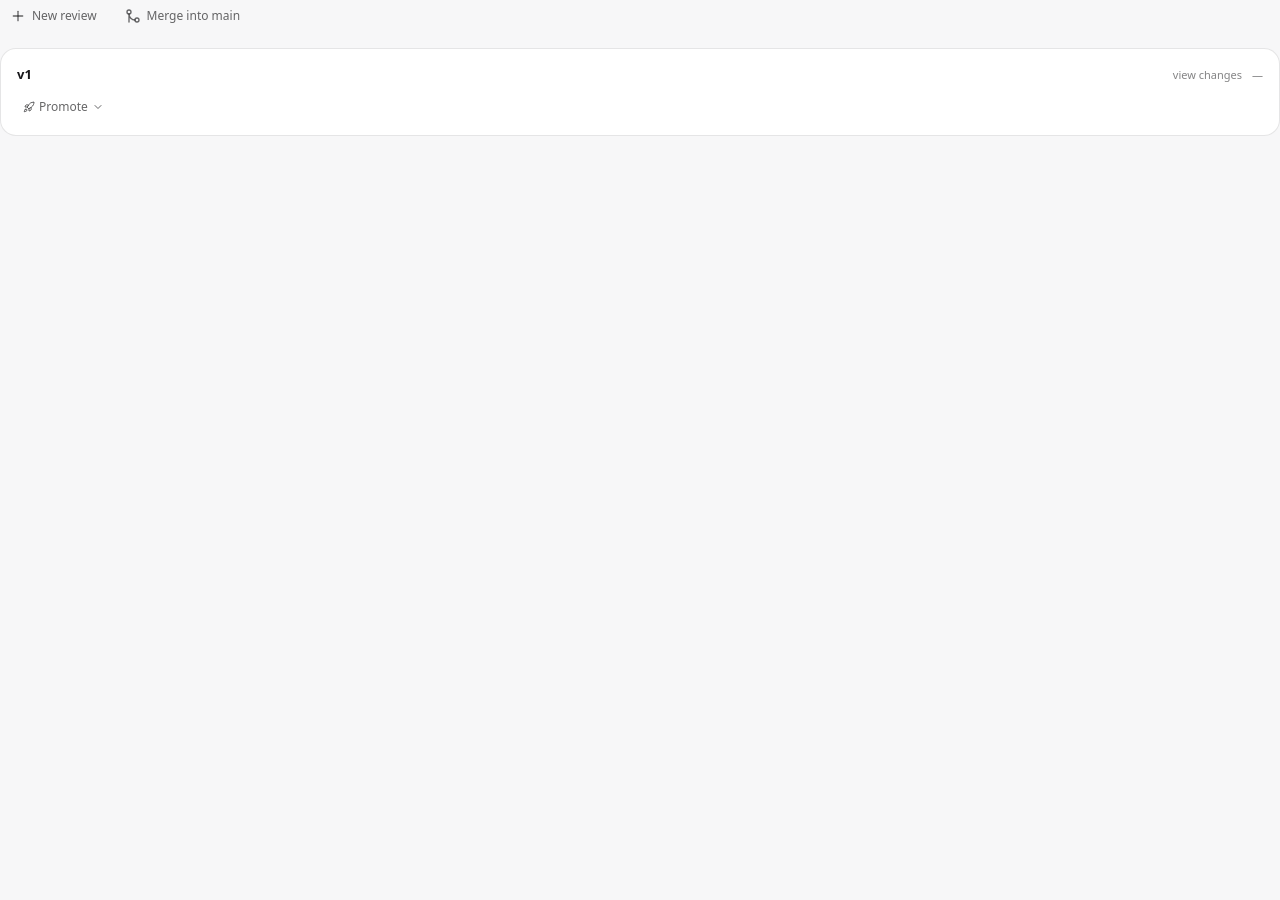
Test: ActivityFeed protected merges › offers no update when the source is protected too, since it takes changes only through a review
Click the button "Merge into main": (182, 16) left=115, top=0, right=250, bottom=32
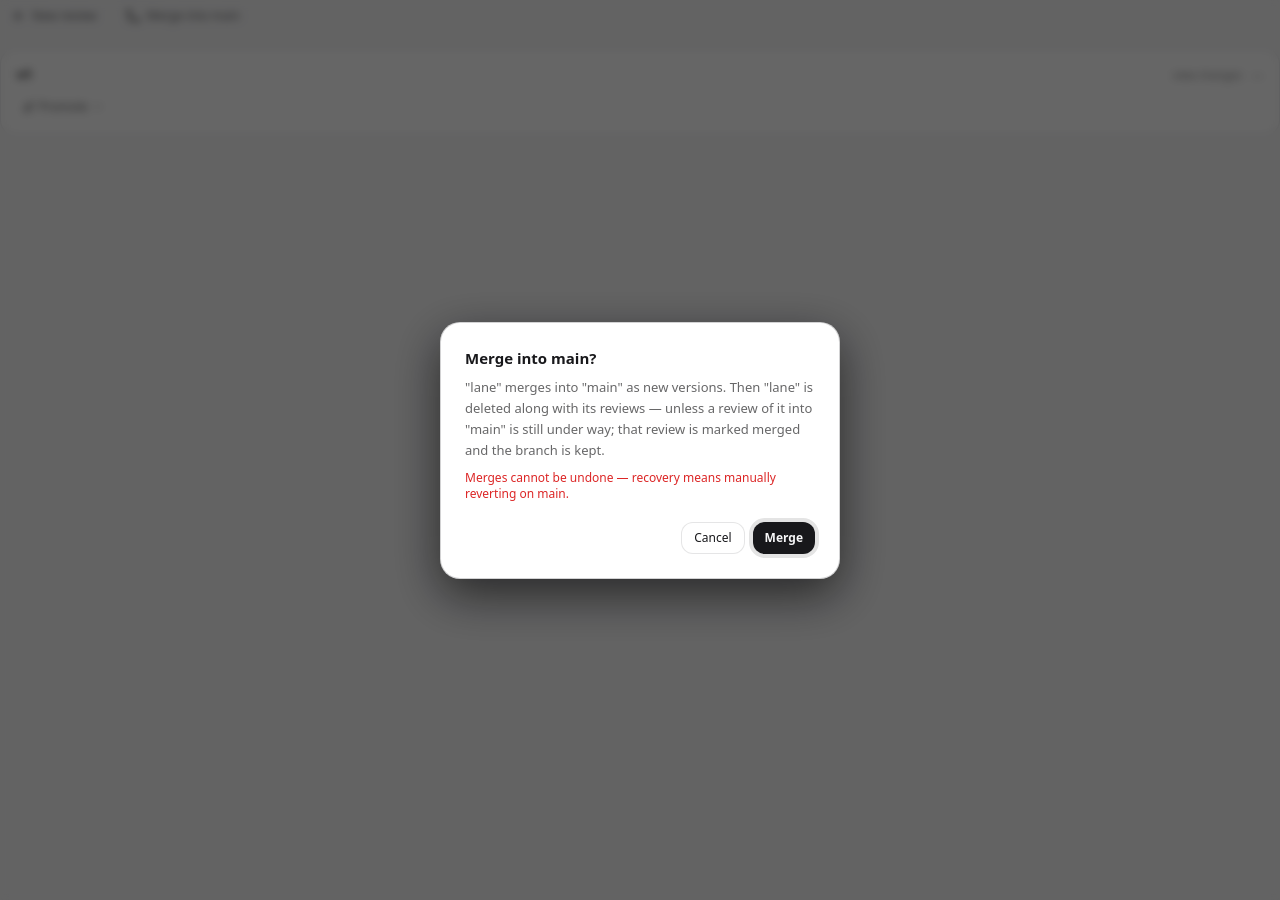
Click the button "Merge": (784, 538) left=753, top=522, right=815, bottom=554
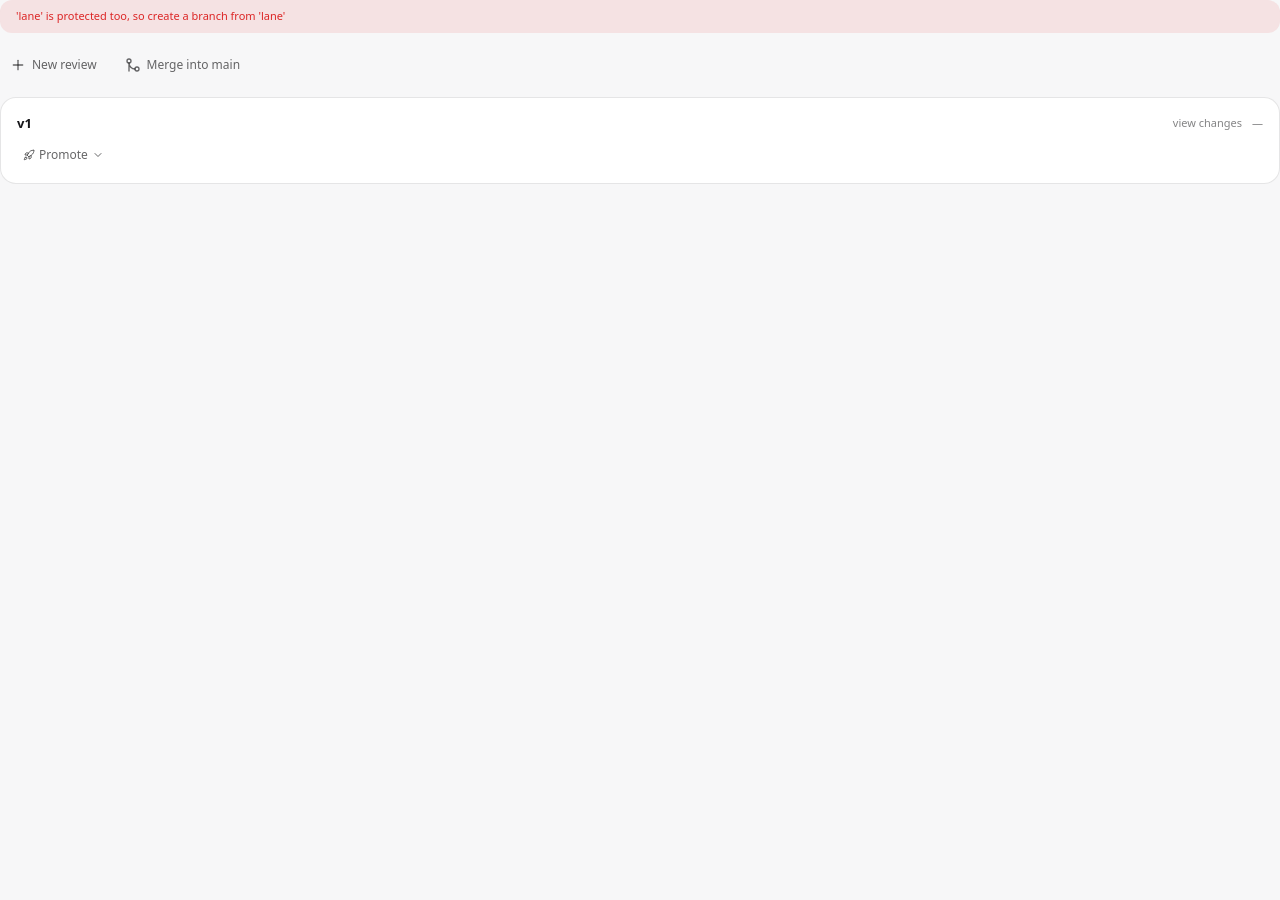
Check: the text "'lane' is protected too, so create a branch from 'lane'" is shown, box left=16, top=8, right=285, bottom=24
